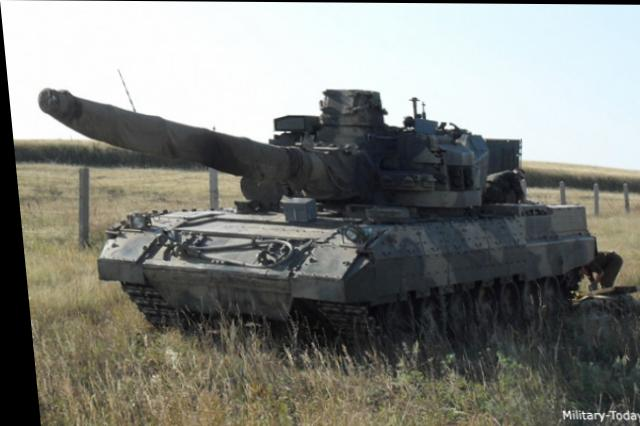other: (475, 166, 524, 204)
tank: (32, 81, 592, 320)
